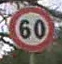limite 60: (9, 4, 55, 52)
